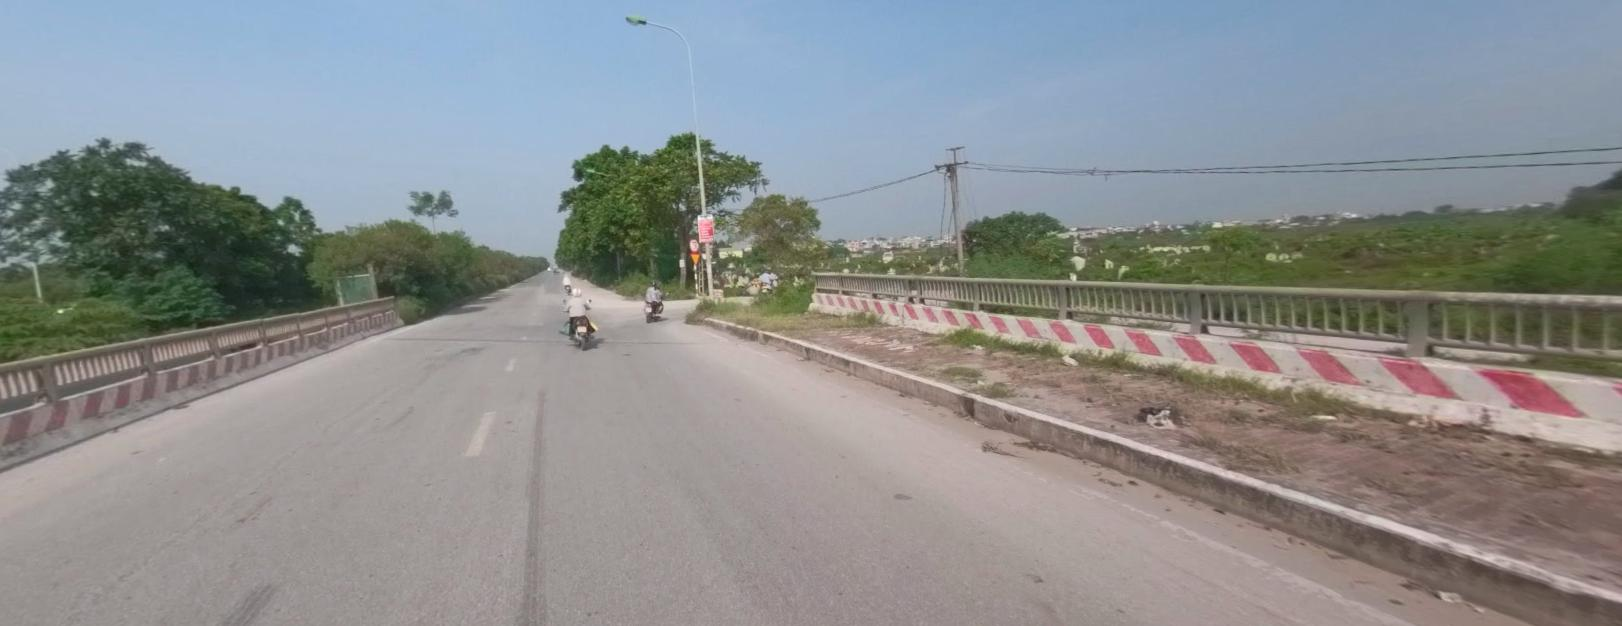Cam con lai: (688, 236, 698, 250)
Nguy hiem: (688, 251, 699, 263)
